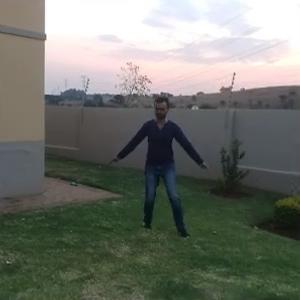land: (113, 87, 215, 239)
